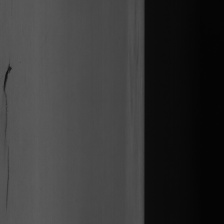inclusion: (0, 59, 14, 200)
